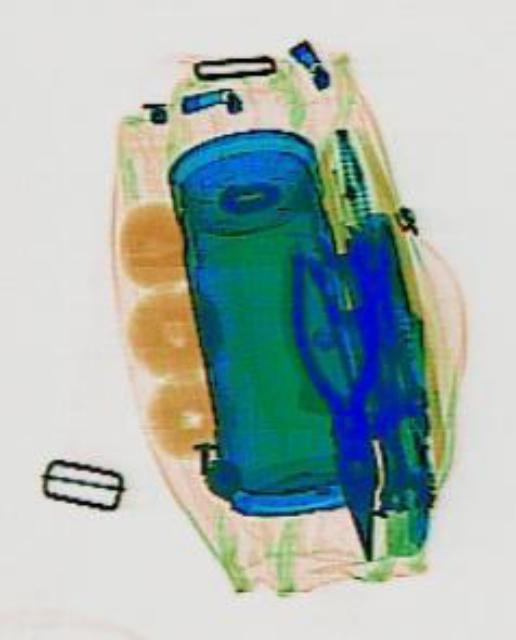Pliers: (276, 237, 413, 567)
